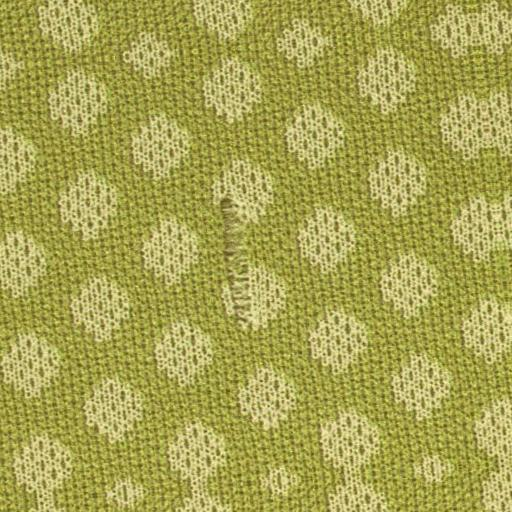slub: (215, 193, 265, 332)
